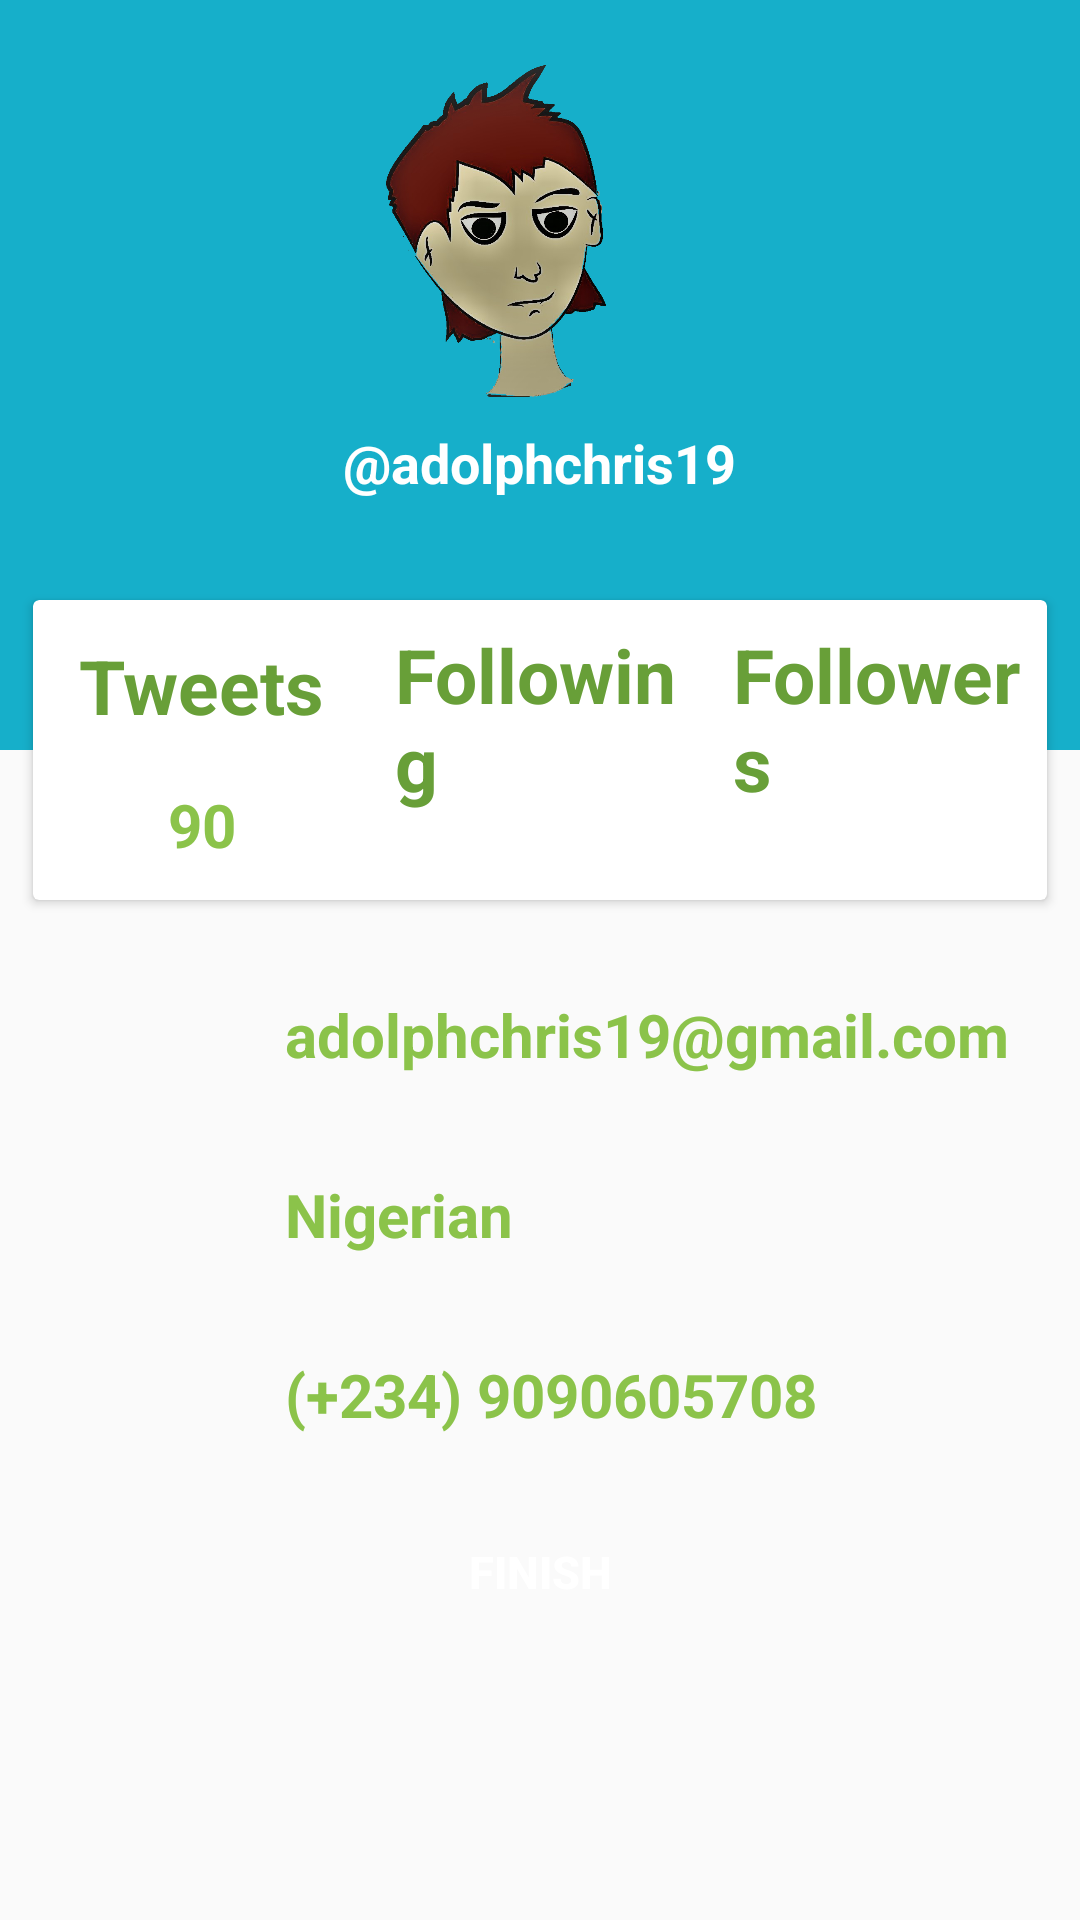

Named icons in this screenshot (1080w x 1920h) and their centers, (x=x, y=y):
myself: (x=496, y=231)
